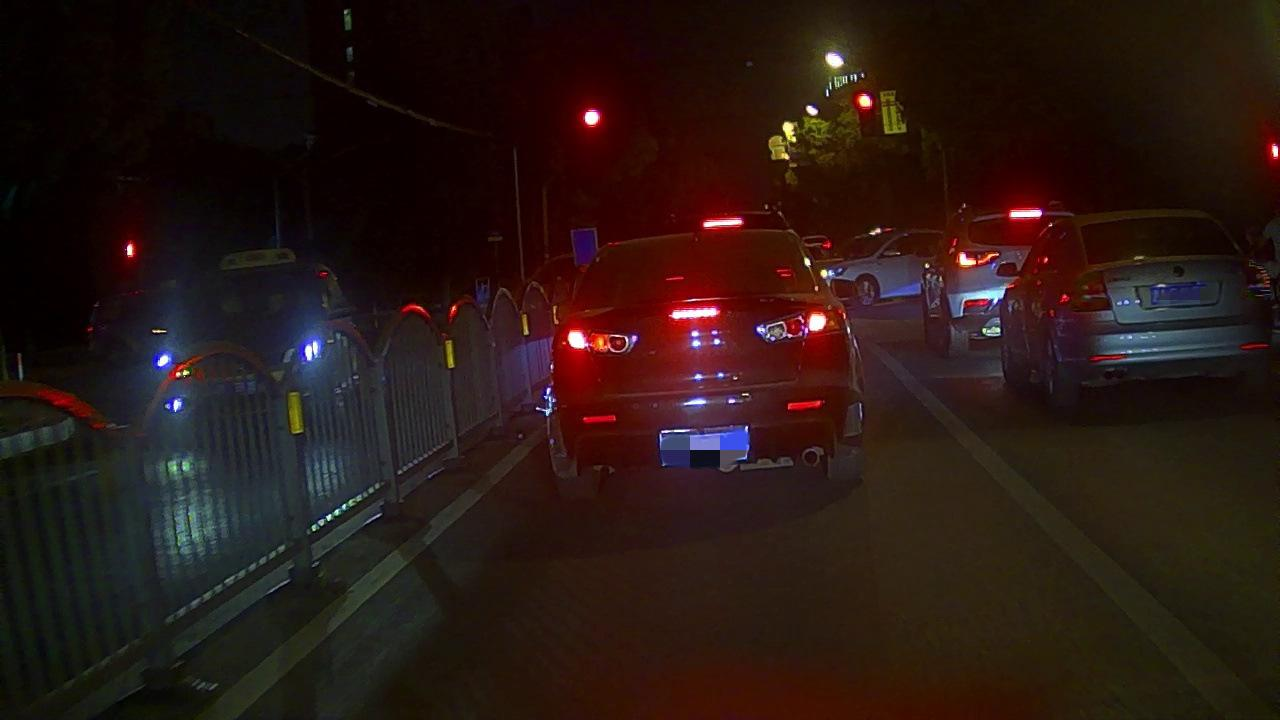traffic_light: (580, 105, 603, 130), (854, 88, 877, 112)
